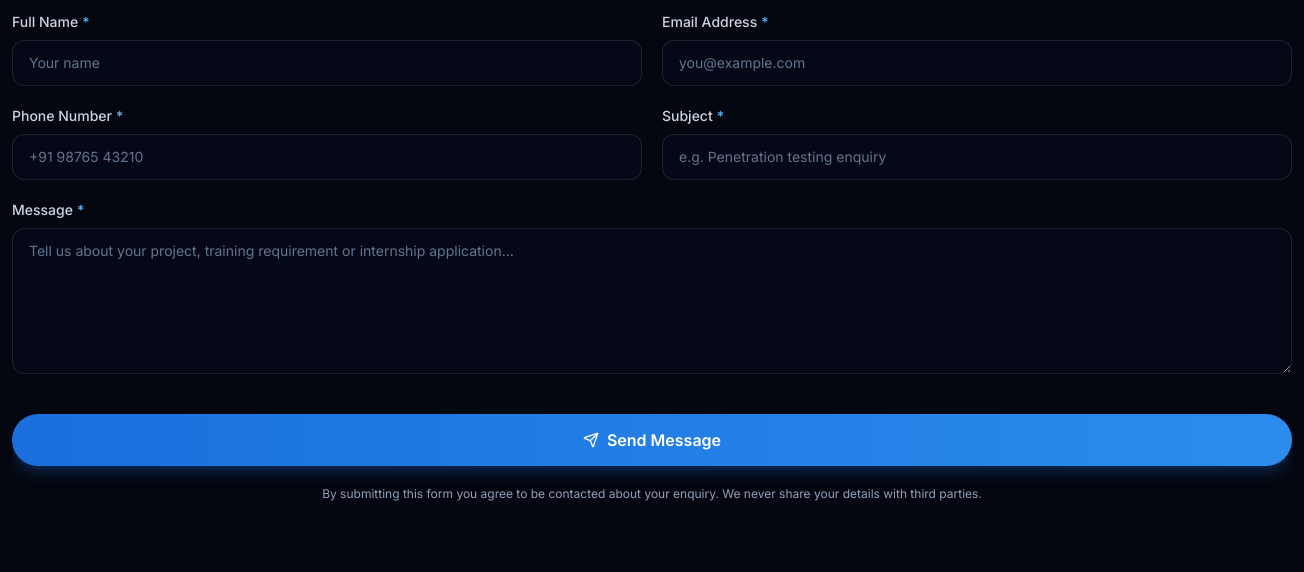
Test case: ContactForm › posts valid data to the contact endpoint and shows a success message
Type "Manikandan K" into the field labelled "Full Name*" at [327, 63], box left=12, top=40, right=642, bottom=86
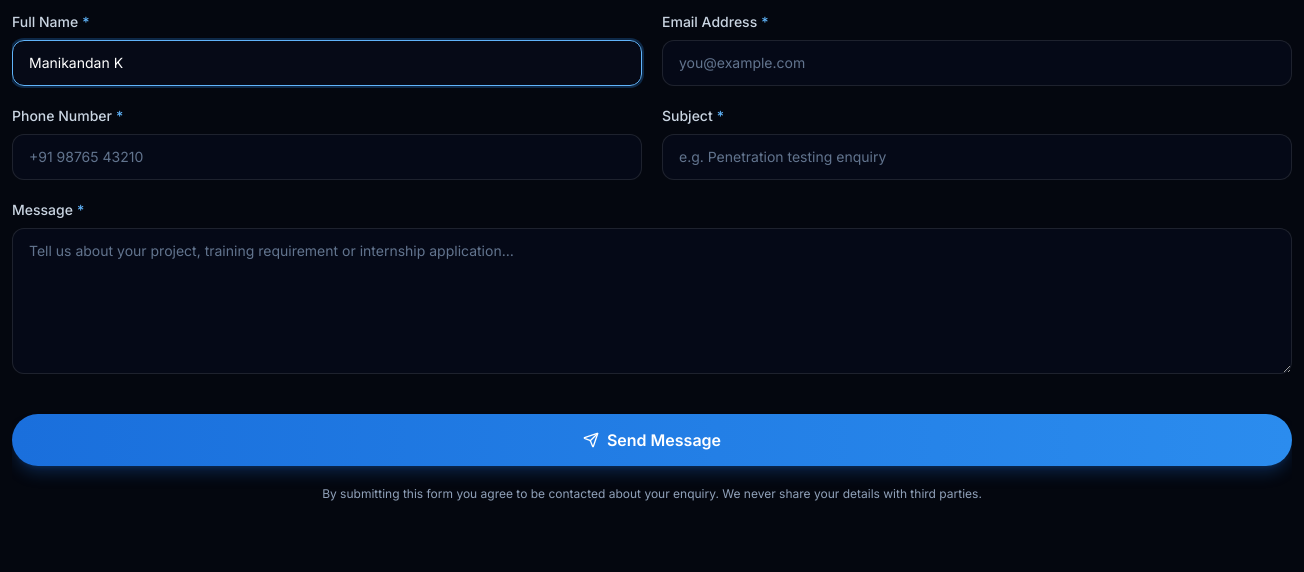
Type "someone@example.com" into the field labelled "Email Address*" at [977, 63], box left=662, top=40, right=1292, bottom=86
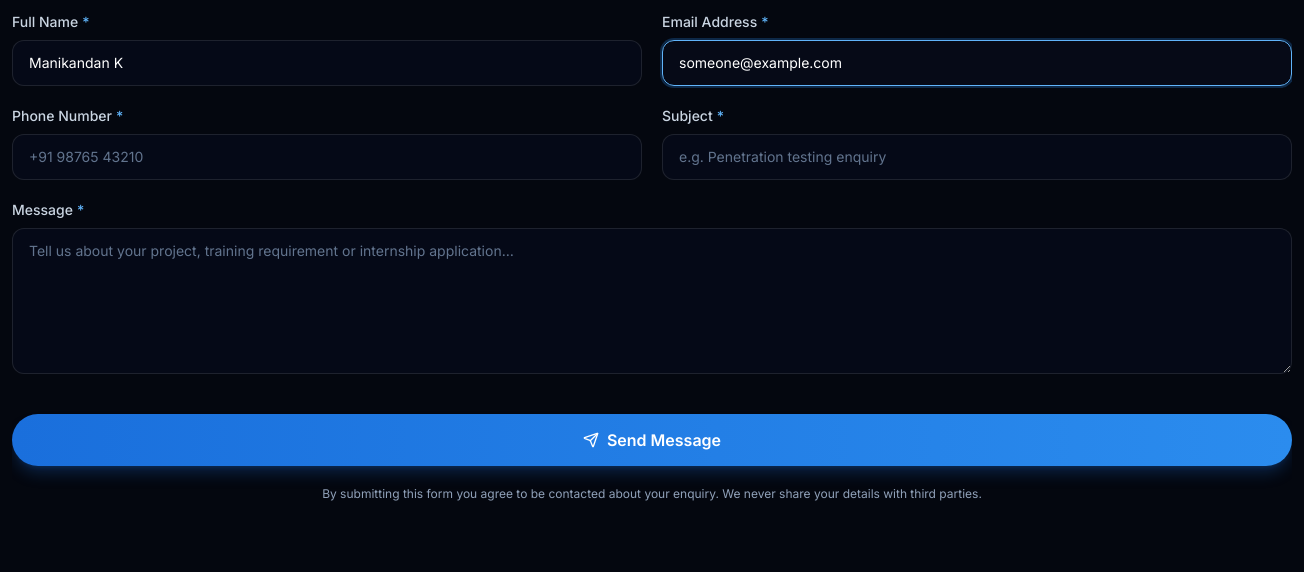
Type "+91 79047 67261" into the field labelled "Phone Number*" at [327, 157], box left=12, top=134, right=642, bottom=180
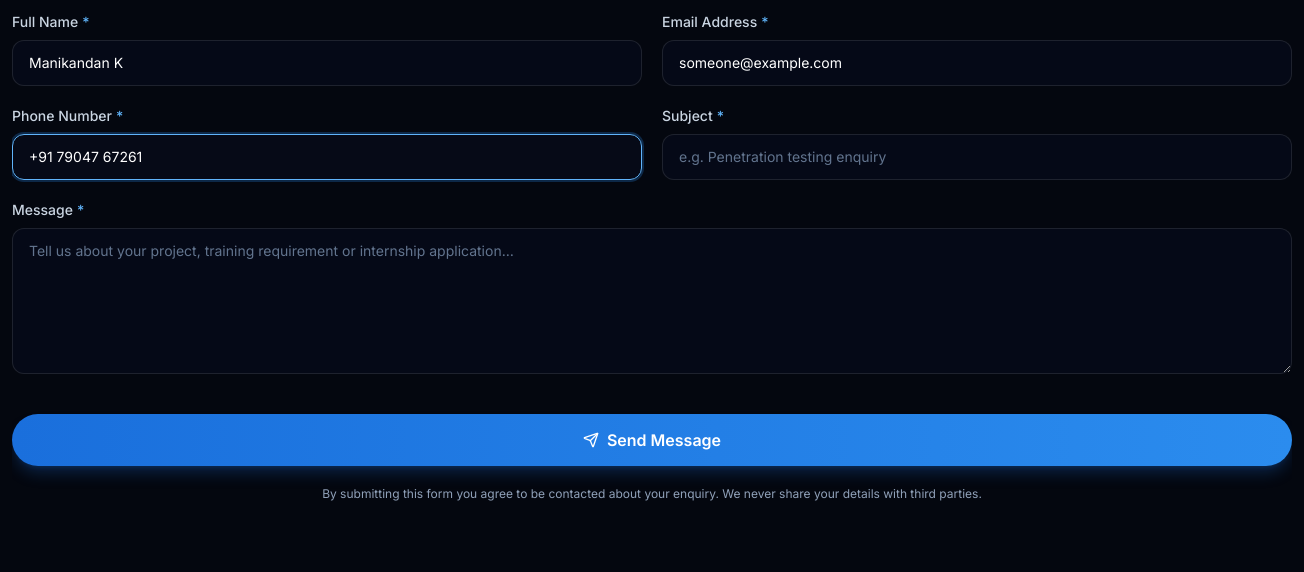
Type "Penetration testing enquiry" into the field labelled "Subject*" at [977, 157], box left=662, top=134, right=1292, bottom=180
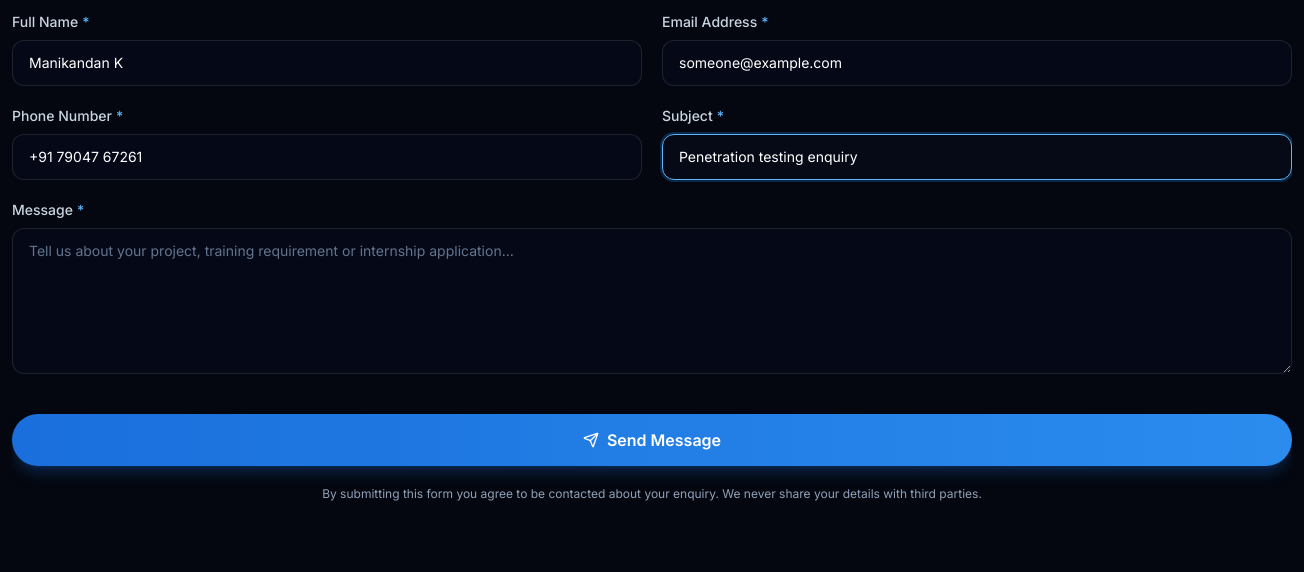
Type "We would like a vulnerability assessment for our web application." into the text box labelled "Message*" at [652, 301], box left=12, top=228, right=1292, bottom=374
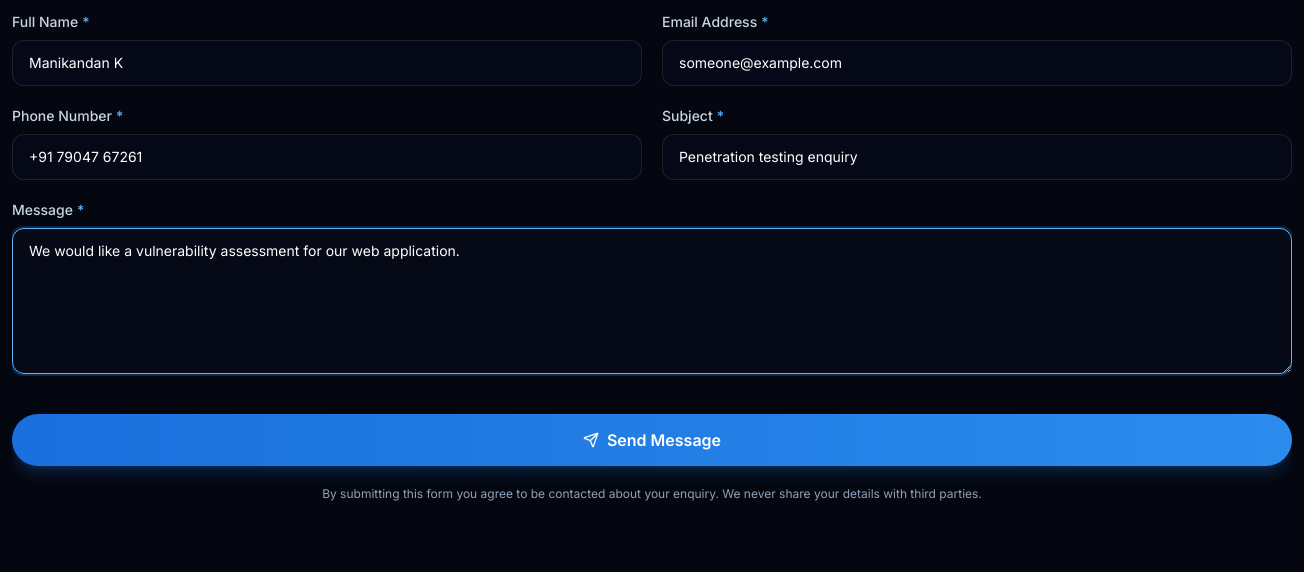
Click the button "Send Message" at [652, 440], box left=12, top=414, right=1292, bottom=466
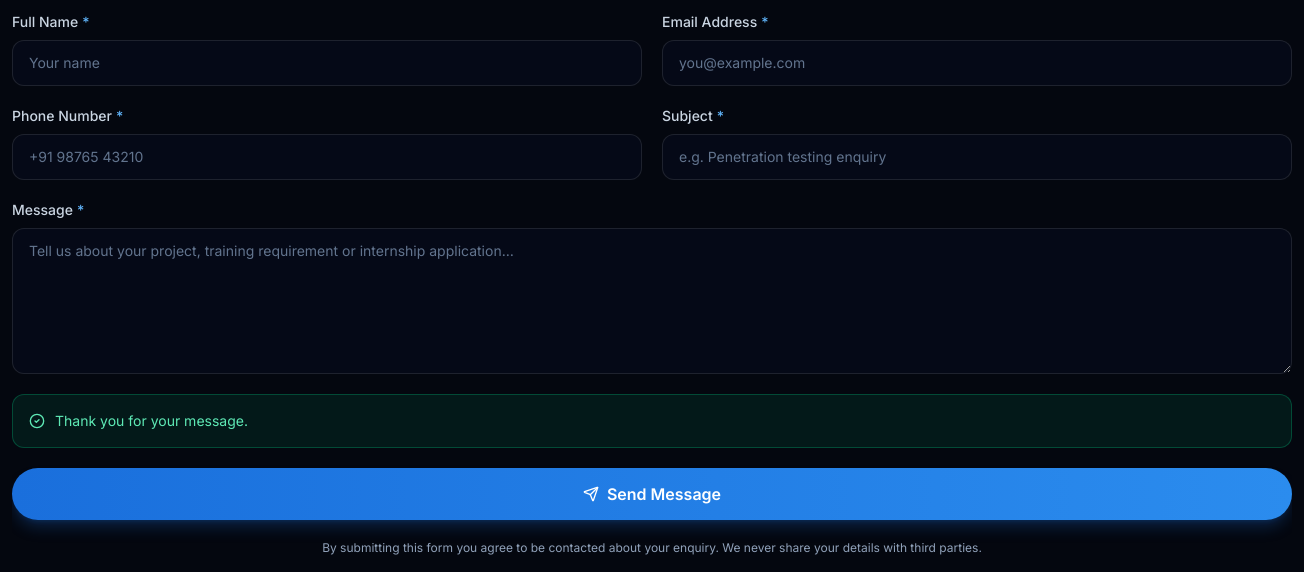
Now the text "Thank you for your message." is shown, box left=12, top=394, right=1292, bottom=448
